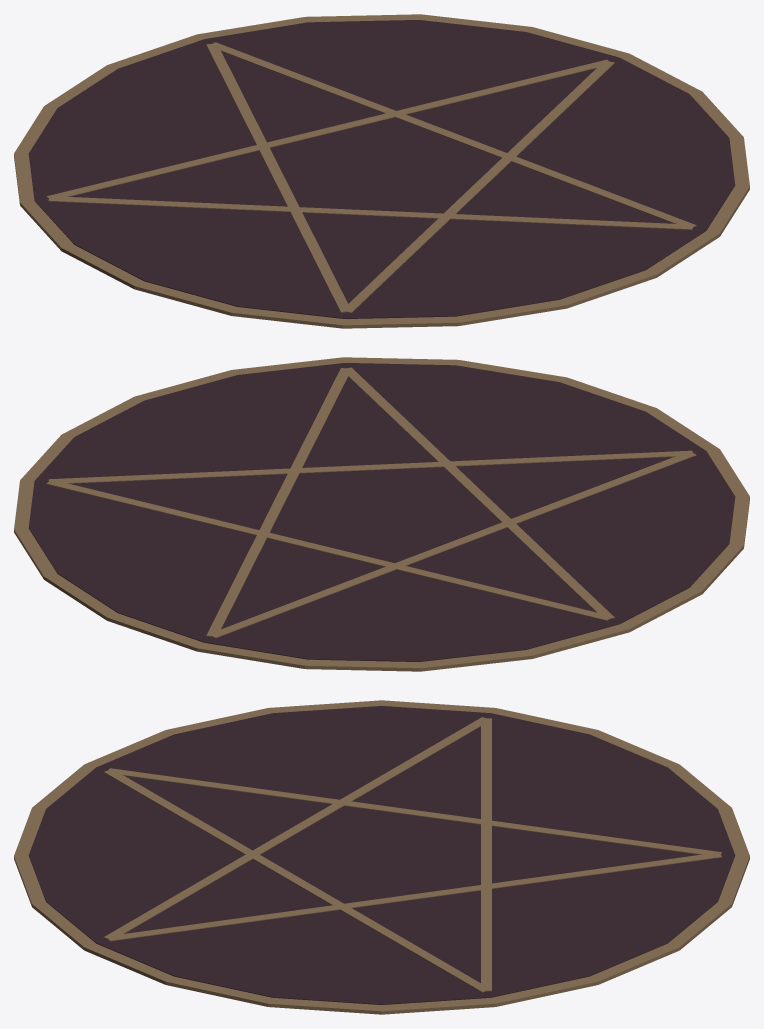
The model's file is covor.glb.
The picture shows the model from 3 angles, top to bottom: view 1: azimuth 30°, elevation 25°; view 2: azimuth 150°, elevation 25°; view 3: azimuth 270°, elevation 25°; orthographic projection.
Visible parts, largest first — view 1: Covor; view 2: Covor; view 3: Covor.
Boxes of the visible parts, x1,y1,x2,y2 form: Covor: (14,14,749,328); Covor: (14,357,749,671); Covor: (14,700,749,1014).
Bounding box in the file's own units: 2 × 0.014 × 2.
